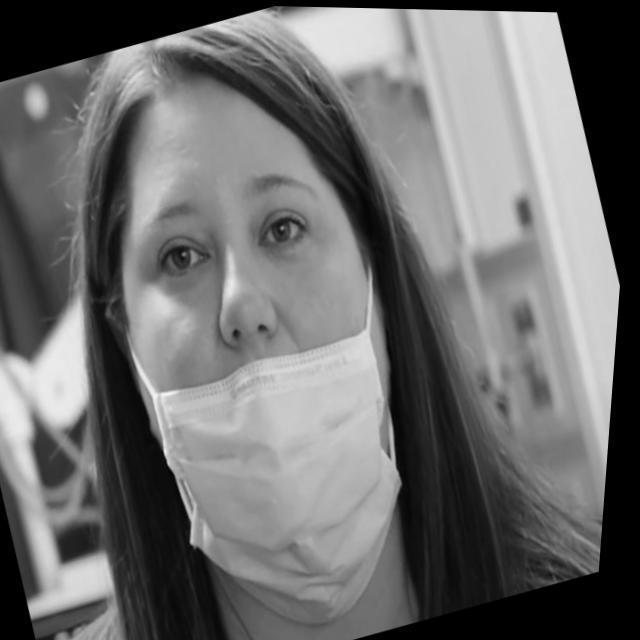hairnet: (89, 142, 459, 639)
